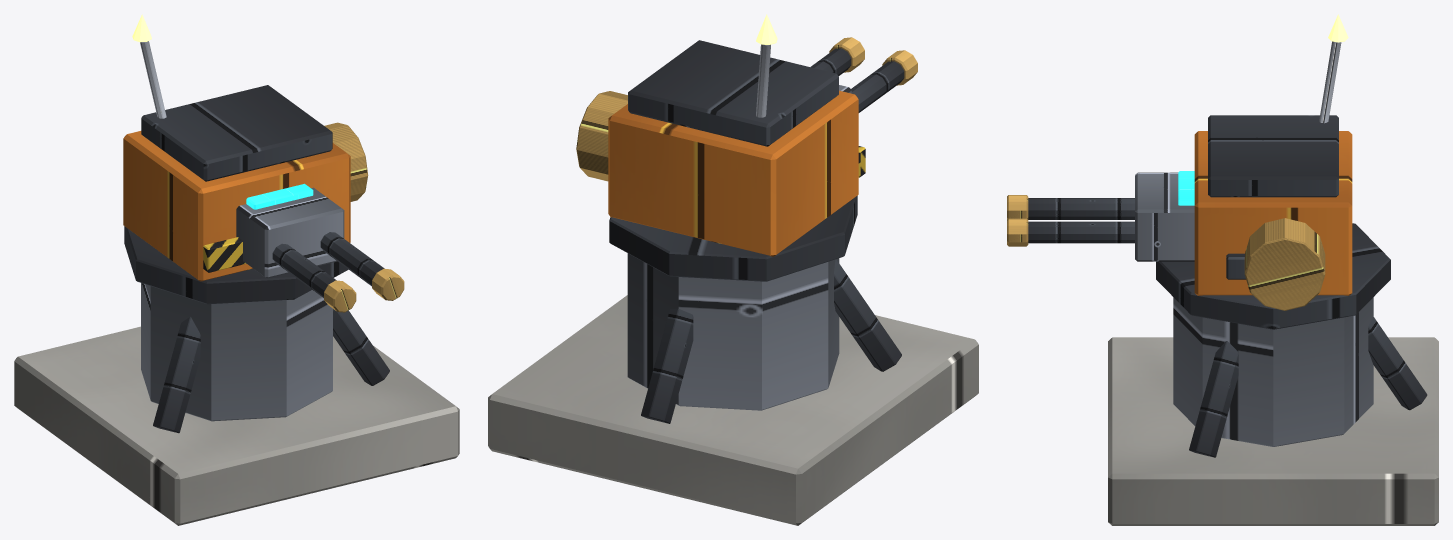
File: BLD_MachineGunTurret_A_v1.fbx
The picture shows the model from 3 angles, left to right: view 1: azimuth 30°, elevation 25°; view 2: azimuth 150°, elevation 25°; view 3: azimuth 270°, elevation 25°; orthographic projection. The views are drawn at different scales.
Visible parts, largest first — view 1: GEO_MachineGunTurret_A_Base, GEO_MachineGunTurret_A_Head; view 2: GEO_MachineGunTurret_A_Base, GEO_MachineGunTurret_A_Head; view 3: GEO_MachineGunTurret_A_Base, GEO_MachineGunTurret_A_Head.
Boxes of the visible parts, box(x1,y1,x2,y2) form: GEO_MachineGunTurret_A_Base: box(14, 226, 459, 525); GEO_MachineGunTurret_A_Head: box(123, 14, 404, 312); GEO_MachineGunTurret_A_Base: box(488, 196, 978, 525); GEO_MachineGunTurret_A_Head: box(576, 14, 917, 256); GEO_MachineGunTurret_A_Base: box(1108, 223, 1438, 525); GEO_MachineGunTurret_A_Head: box(1007, 14, 1352, 310).
Bounding box in the file's own units: 172 × 237 × 224.
